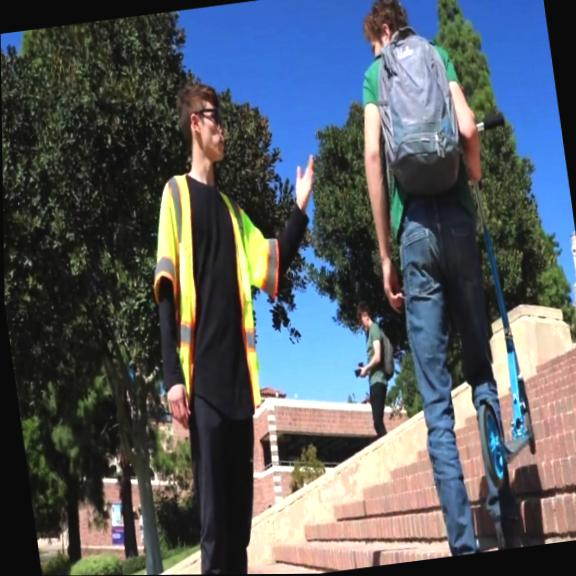safety_vest: (131, 152, 301, 425)
